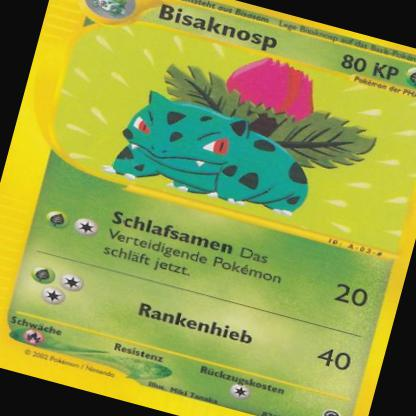Ivysaur: (103, 25, 393, 238)
